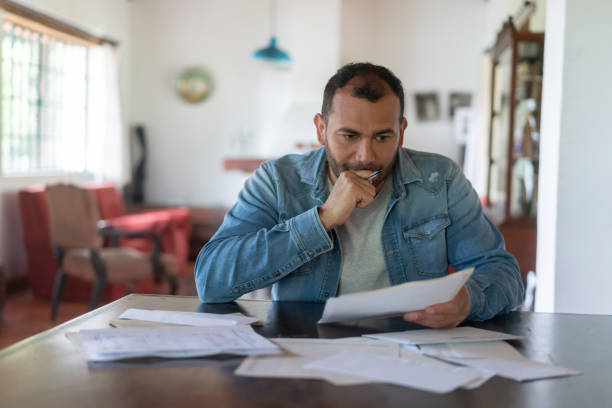without mask: (313, 75, 410, 196)
